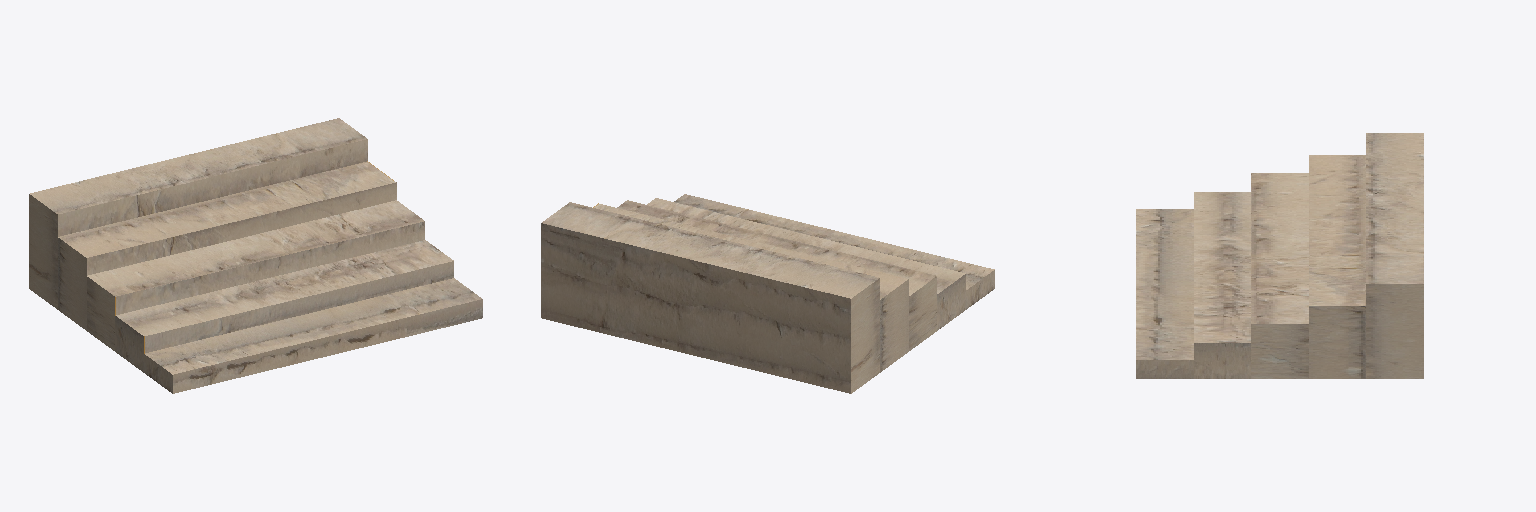
3 renders of one model, left to right at view 1: azimuth 30°, elevation 25°; view 2: azimuth 150°, elevation 25°; view 3: azimuth 270°, elevation 25°, orthographic.
Parts seen in each view (by area): view 1: Stairs.001_Cube.030; view 2: Stairs.001_Cube.030; view 3: Stairs.001_Cube.030.
Boxes of the visible parts, x1,y1,x2,y2 form: Stairs.001_Cube.030: [29, 118, 482, 393]; Stairs.001_Cube.030: [541, 194, 994, 393]; Stairs.001_Cube.030: [1136, 133, 1423, 378].
Bounding box in the file's own units: 3.45 × 1.01 × 2.76.
1 materials, 1 textured.